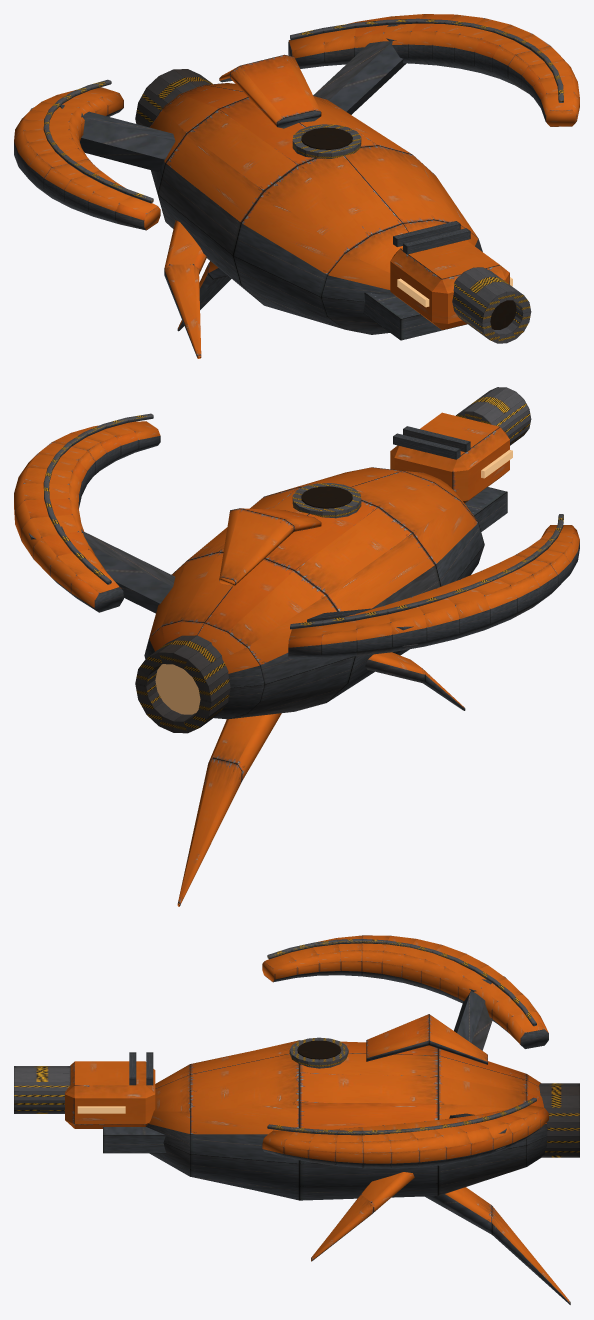
The model's file is pioneer-saturn-l05-laser.glb.
The picture shows the model from 3 angles, top to bottom: view 1: azimuth 30°, elevation 25°; view 2: azimuth 150°, elevation 25°; view 3: azimuth 270°, elevation 25°; orthographic projection. The views are drawn at different scales.
Parts seen in each view (by area): view 1: Drone; view 2: Drone; view 3: Drone.
Boxes of the visible parts, x1=… form: Drone: x1=14, y1=14, x2=579, y2=358; Drone: x1=14, y1=387, x2=579, y2=906; Drone: x1=14, y1=935, x2=579, y2=1304.
Size of the model in its own units: 1.28 by 0.791 by 1.44.
3 materials, 3 textured.
